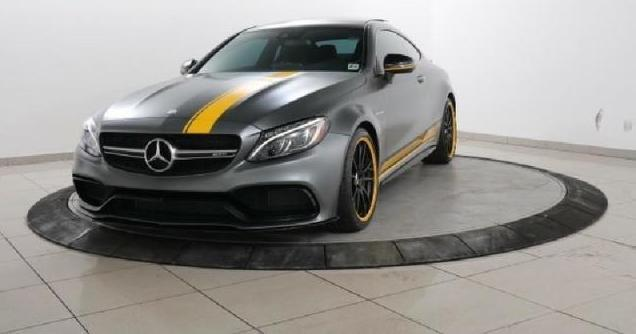C63AMG: (62, 18, 462, 233)
